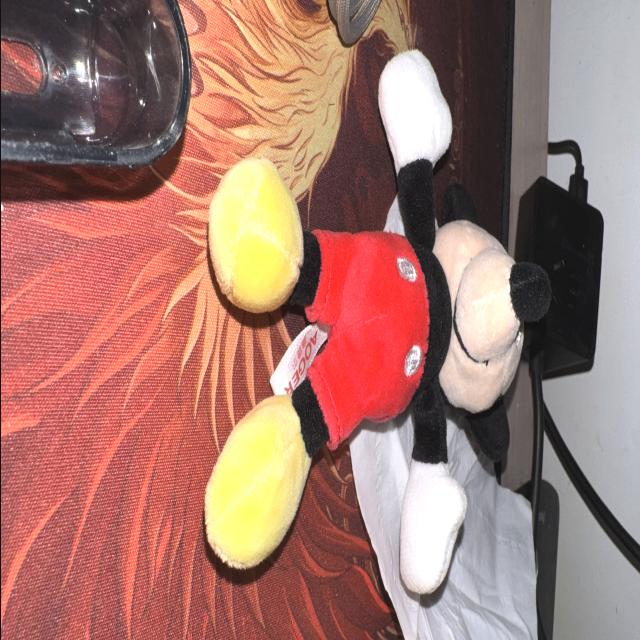mickey: (205, 51, 550, 592)
